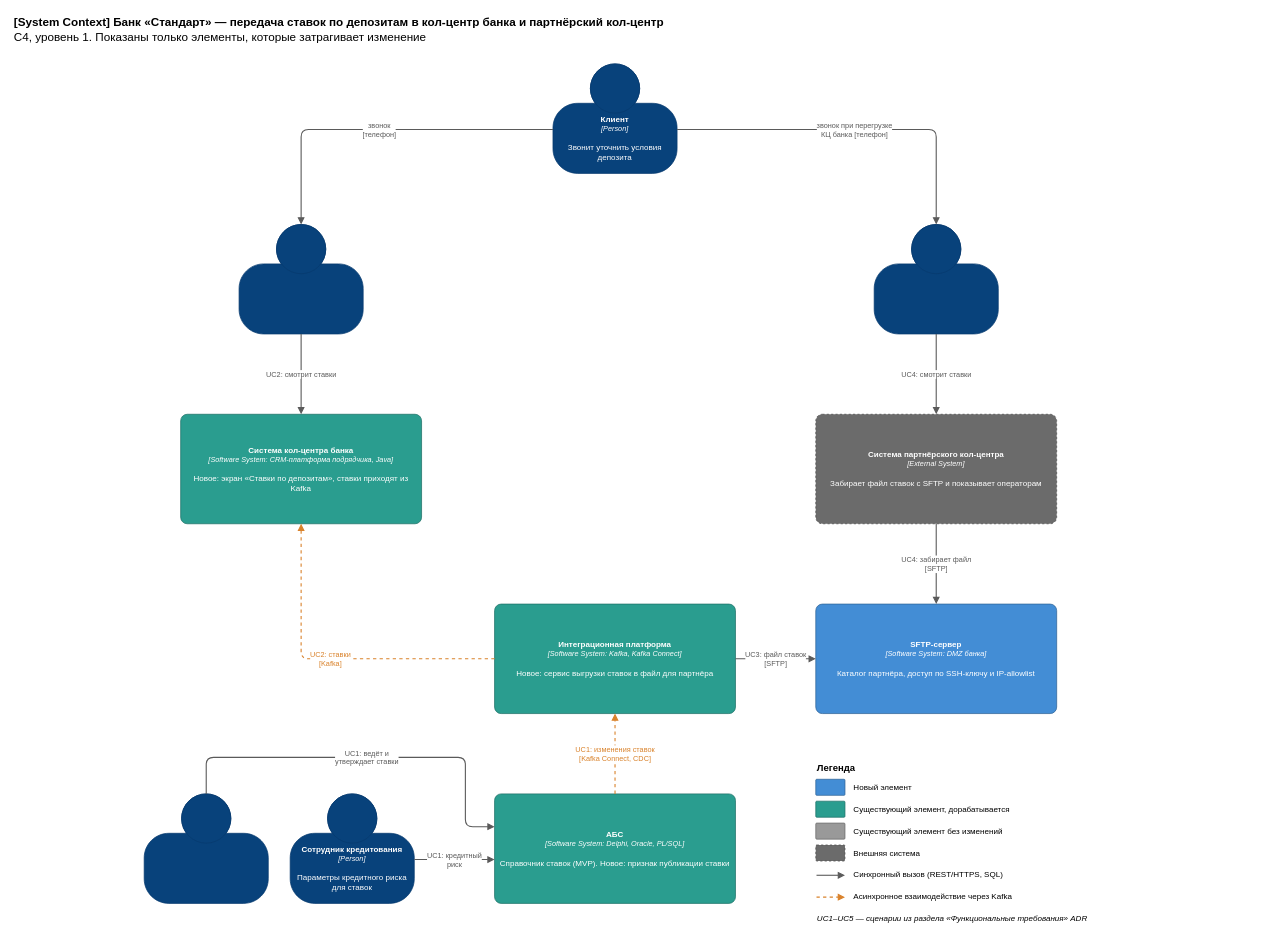
This 1266x939 diagram has some shape labels left out. Each missing label, with the box of its shape:
Менеджер бэк-офиса депозитов [Person] Ведёт и утверждает ставки: (143, 793, 268, 903)
Оператор кол-центра банка [Person] Консультирует по ставкам: (238, 224, 363, 334)
Оператор партнёрского КЦ [Person] Консультирует при перегрузке КЦ банка: (873, 224, 998, 334)
